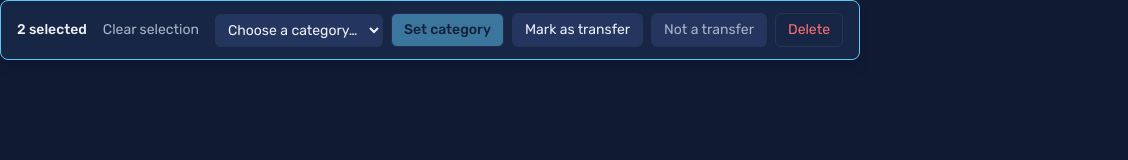
it: BulkActionBar › asks before deleting, and Undo restores exactly the rows that were deleted
The width and height of the screenshot is (1128, 160).
Click the button "Delete": [809, 30] box x1=775 y1=13 x2=843 y2=47
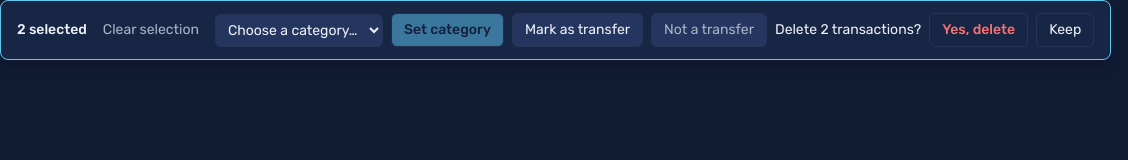
Check: the text "Delete 2 transactions?" is shown, box x1=775 y1=20 x2=921 y2=40
Click the button "Keep": [1065, 30] box x1=1036 y1=13 x2=1094 y2=47
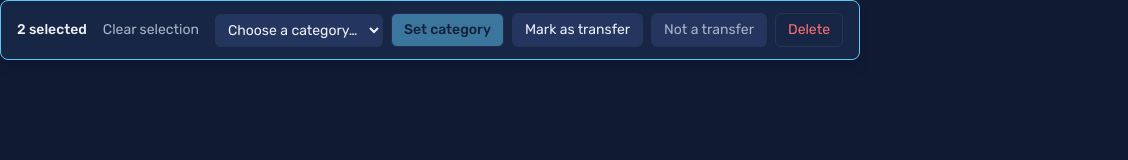
Check: the text "Delete 2 transactions?" is gone
Click the button "Delete": [809, 30] box x1=775 y1=13 x2=843 y2=47
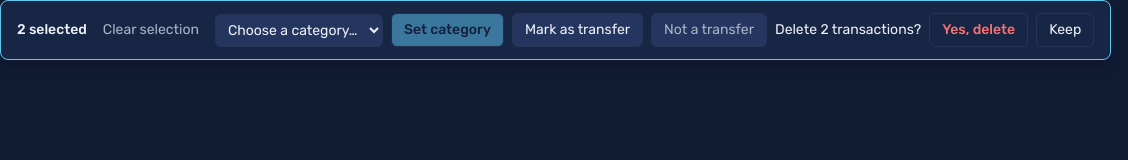
Click the button "Yes, delete": [979, 30] box x1=929 y1=13 x2=1028 y2=47
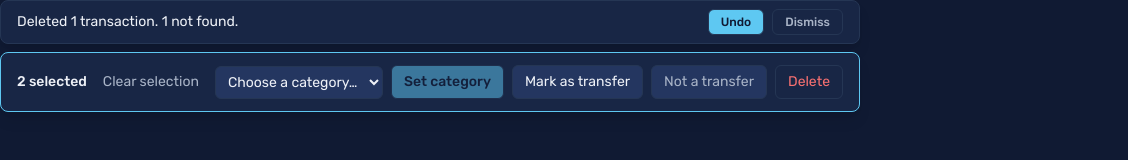
Check: the text "Deleted 1 transaction. 1 not found." is shown, box x1=17 y1=12 x2=238 y2=32
Click the button "Undo": [736, 22] box x1=708 y1=9 x2=764 y2=35
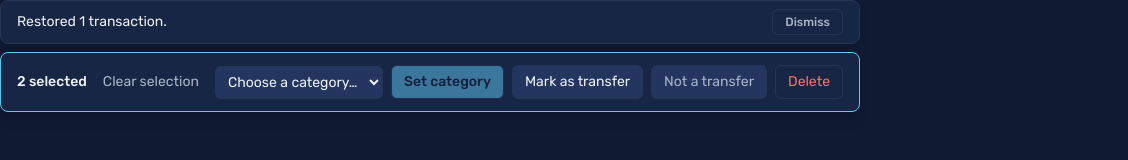
Check: the text "Restored 1 transaction." is shown, box x1=17 y1=12 x2=167 y2=32
Check: the button "Undo" is gone
